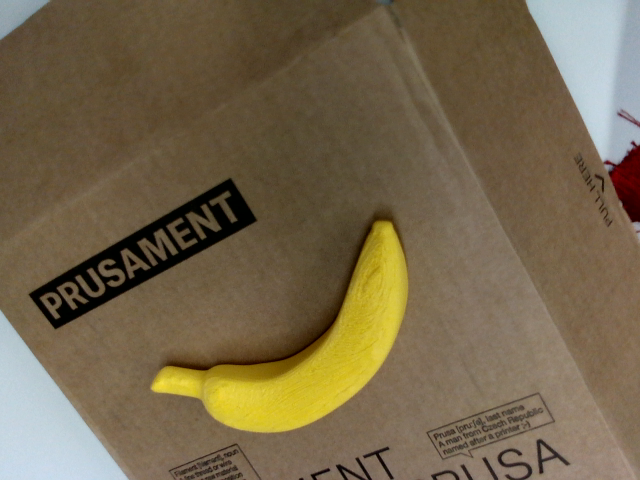banana: (147, 190, 459, 480), (0, 0, 1, 1)
